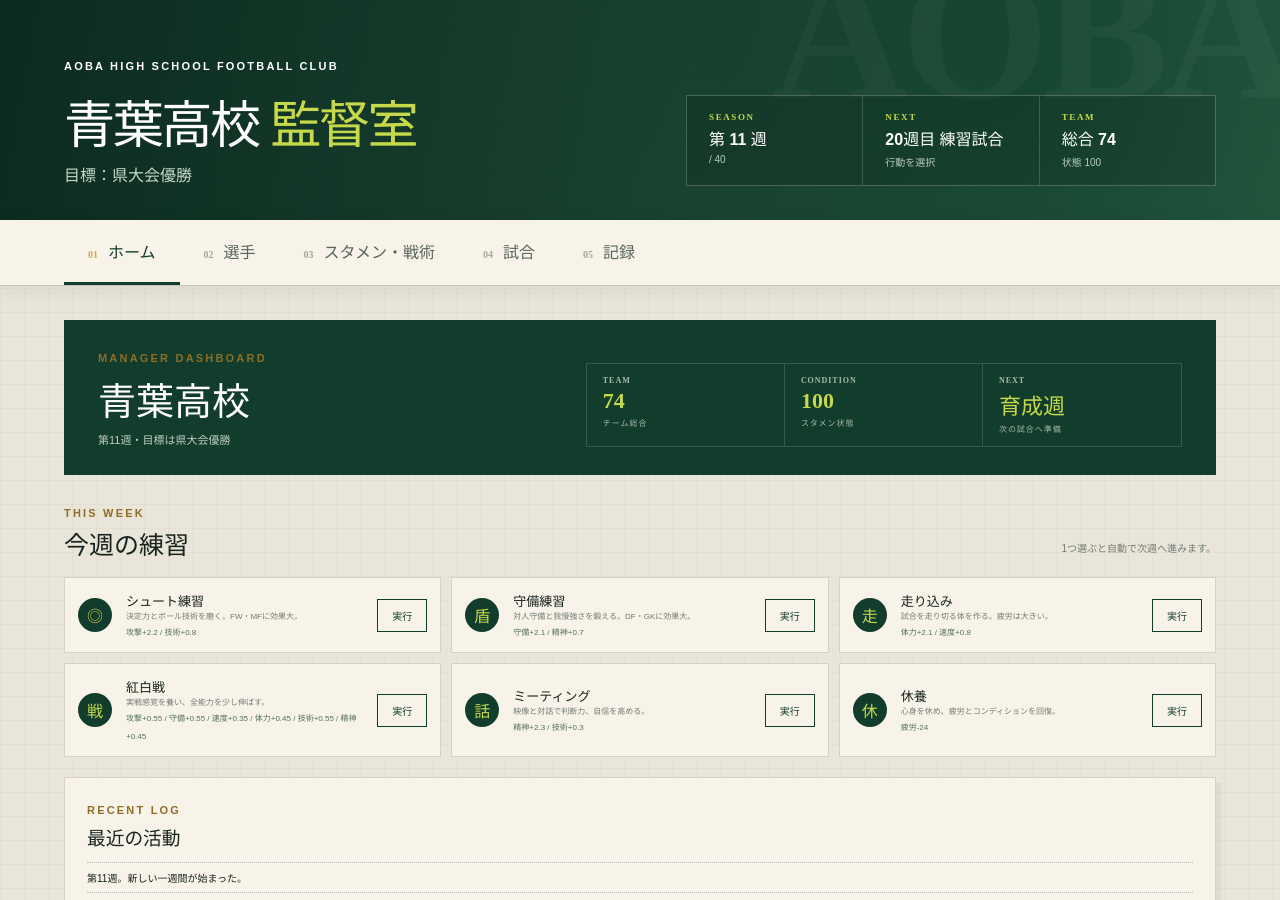
Scenario: 2D replay navigation › opens a saved match from records and provides replay controls
Step 1. Click the button "05記録" → point(609, 252), box top-left (559, 220), bottom-right (659, 285)
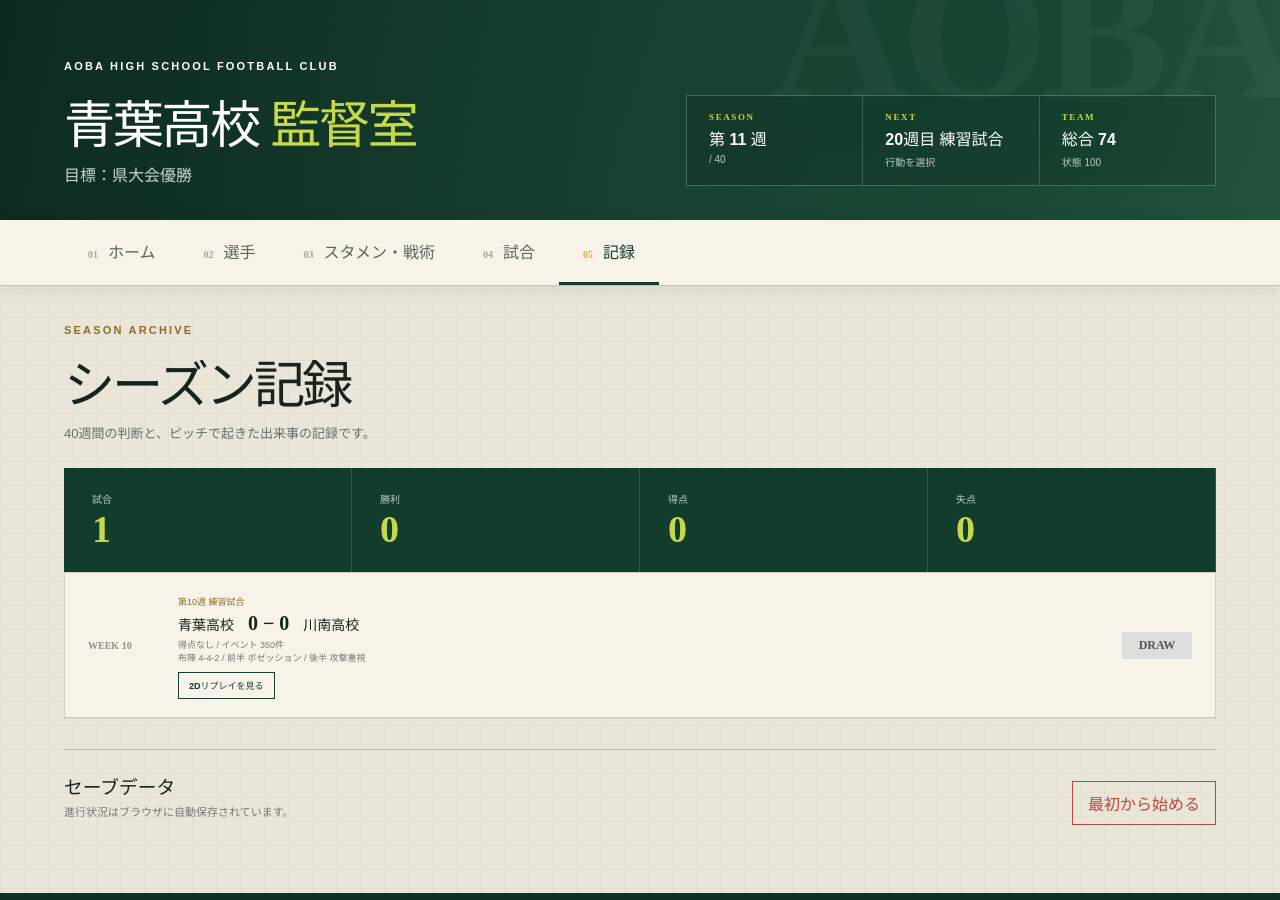
Step 2. Click the button "2Dリプレイを見る" → point(226, 686), box top-left (178, 672), bottom-right (274, 699)
(page scrolled)
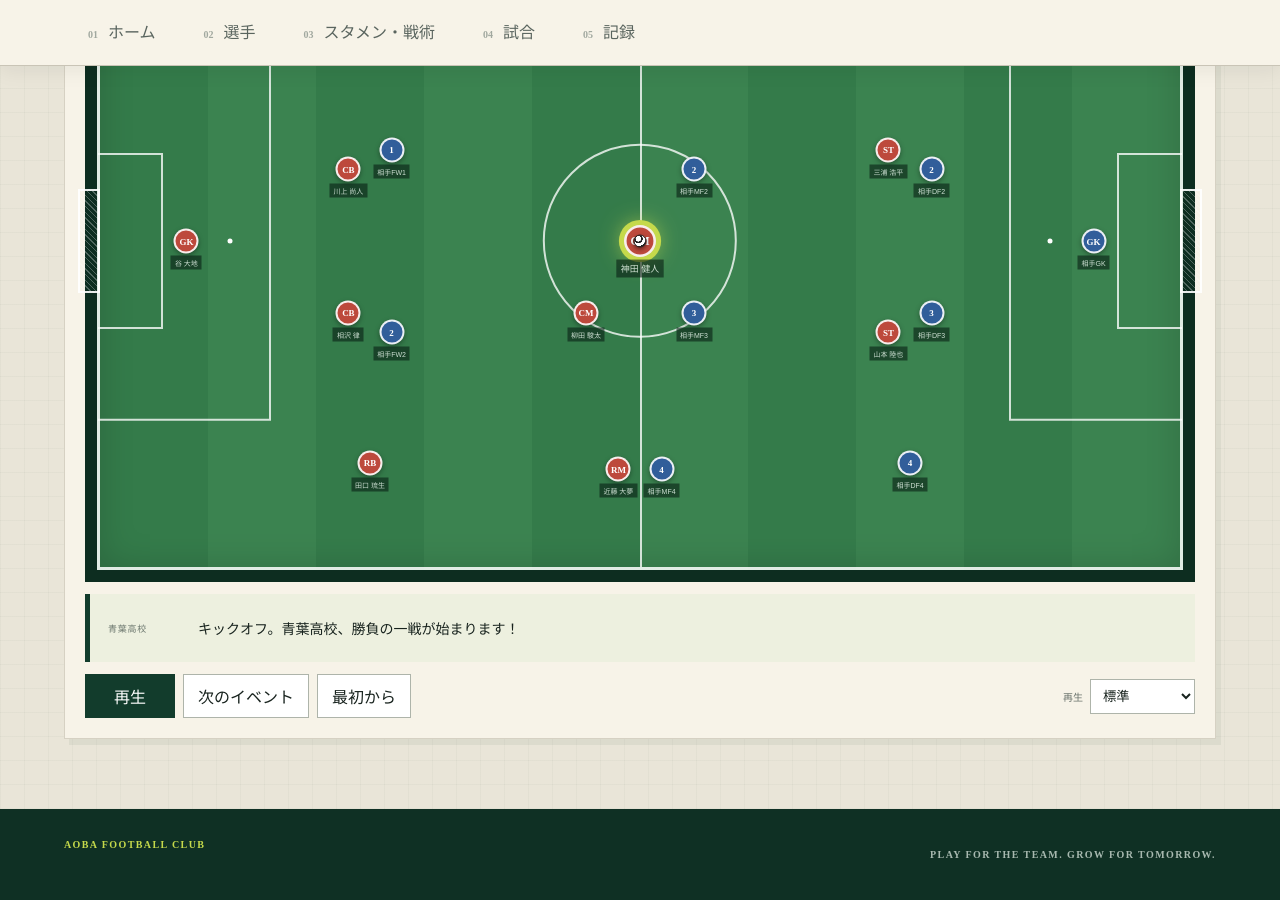
Result: the button "最初から" is shown at top-left (317, 674), bottom-right (411, 718)
Result: the button "再生" is shown at top-left (85, 674), bottom-right (175, 718)
Result: the button "次のイベント" is shown
Step 3. Click the button "次のイベント" → point(246, 696), box top-left (183, 674), bottom-right (309, 718)
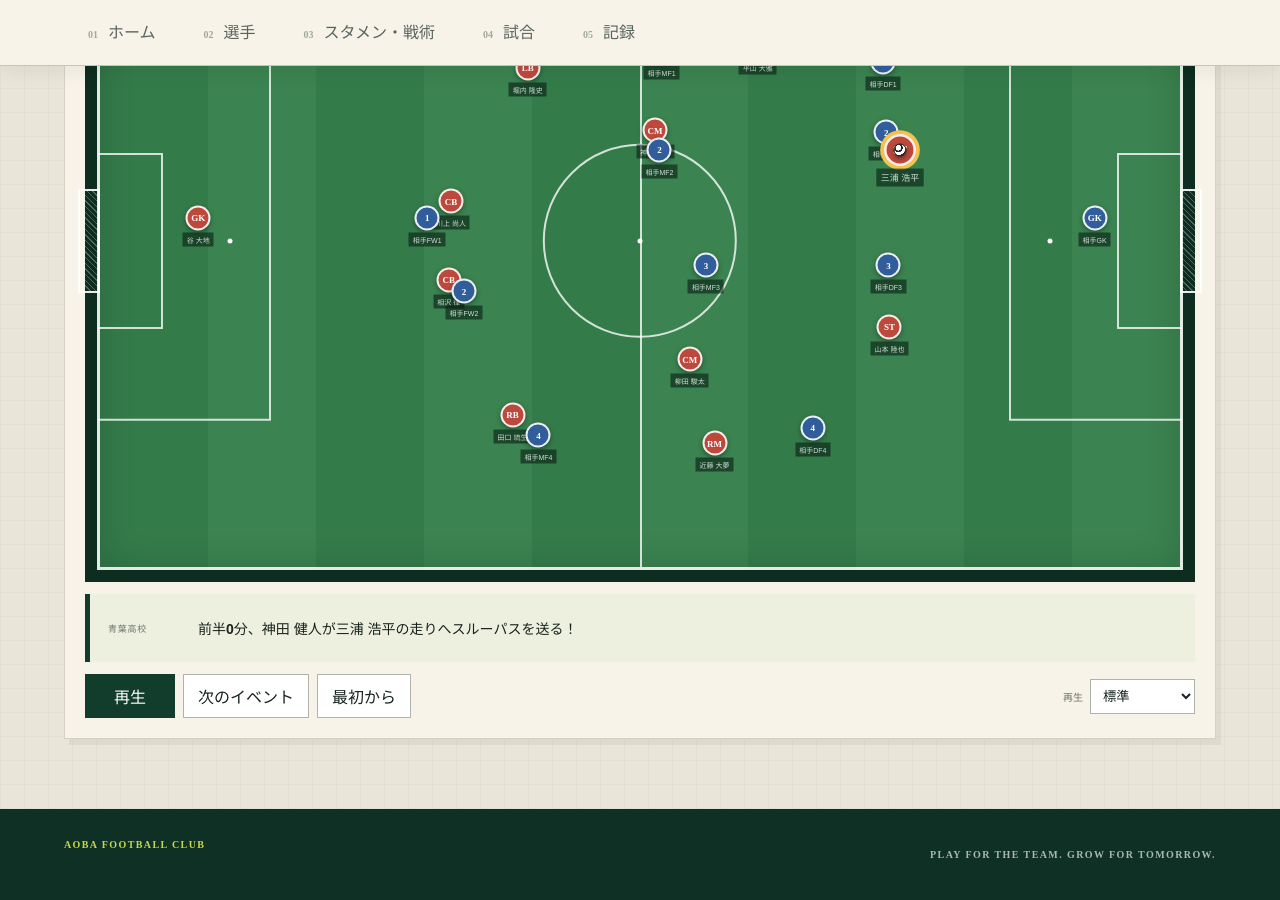
Step 4. Click the button "最初から" → point(364, 696), box top-left (317, 674), bottom-right (411, 718)
(page scrolled)
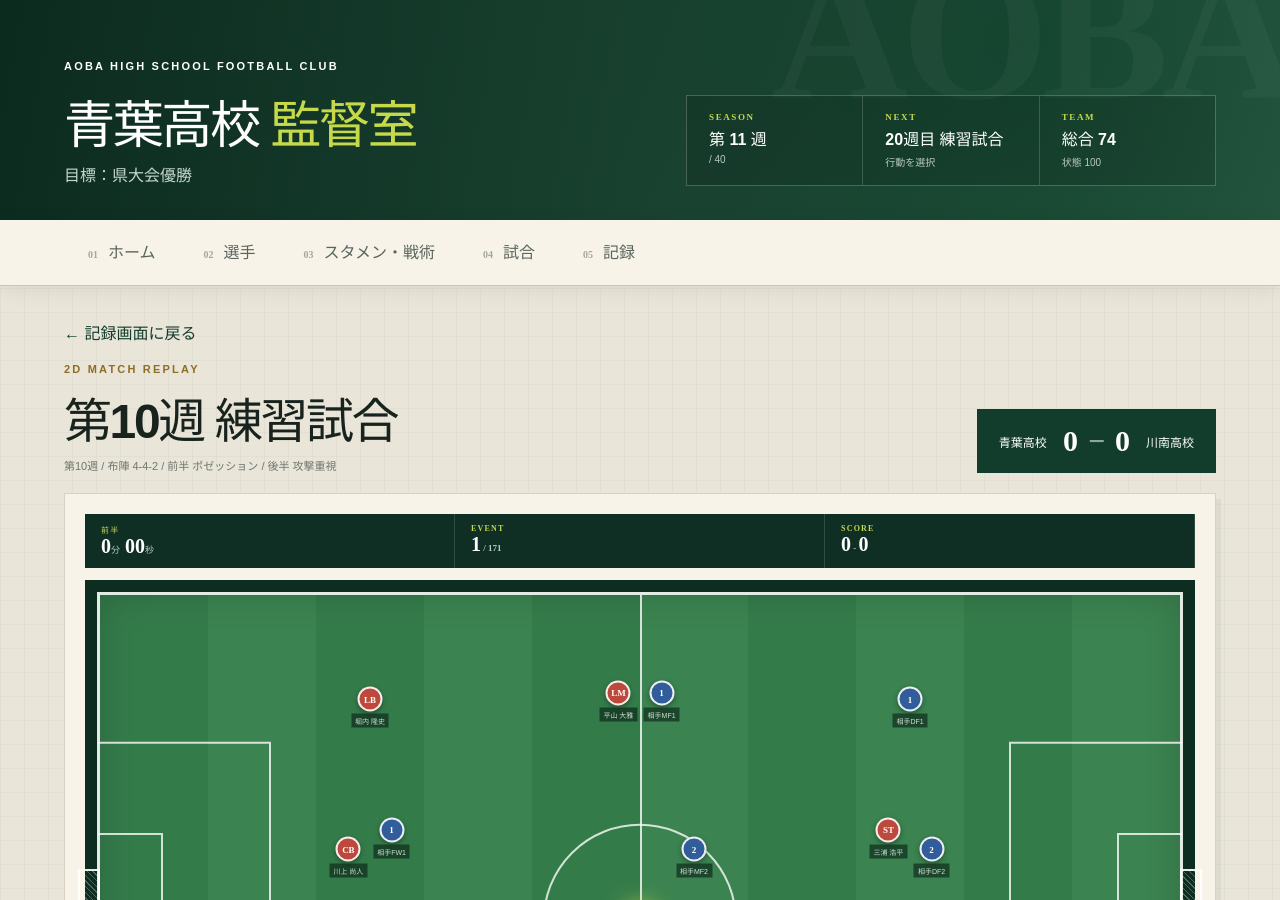
Result: the element showing "1 / 171" is shown at top-left (471, 533), bottom-right (502, 555)
Step 5. Click the button "← 記録画面に戻る" → point(130, 340), box top-left (64, 320), bottom-right (196, 359)
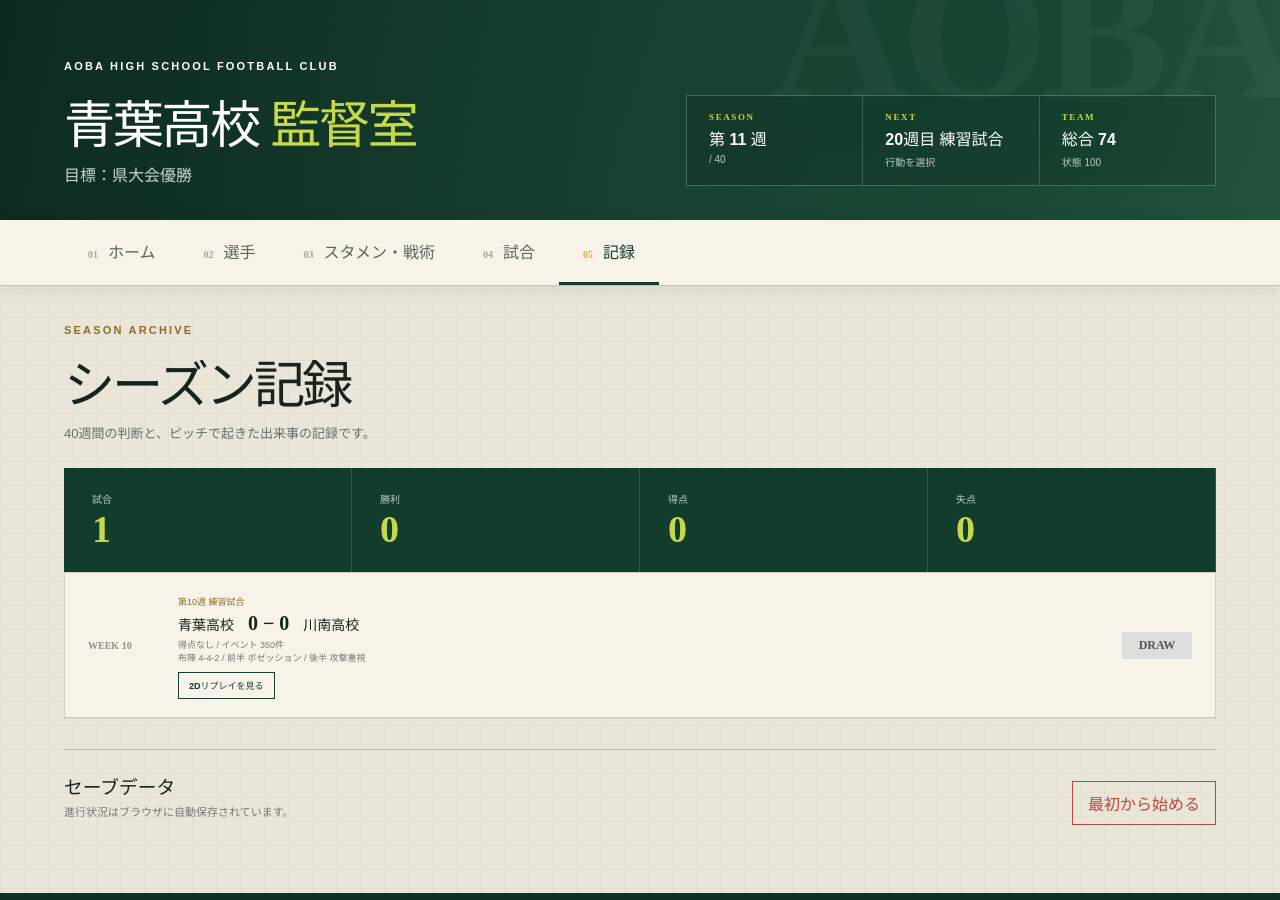
Result: the heading "シーズン記録" is shown at top-left (64, 344), bottom-right (376, 418)
